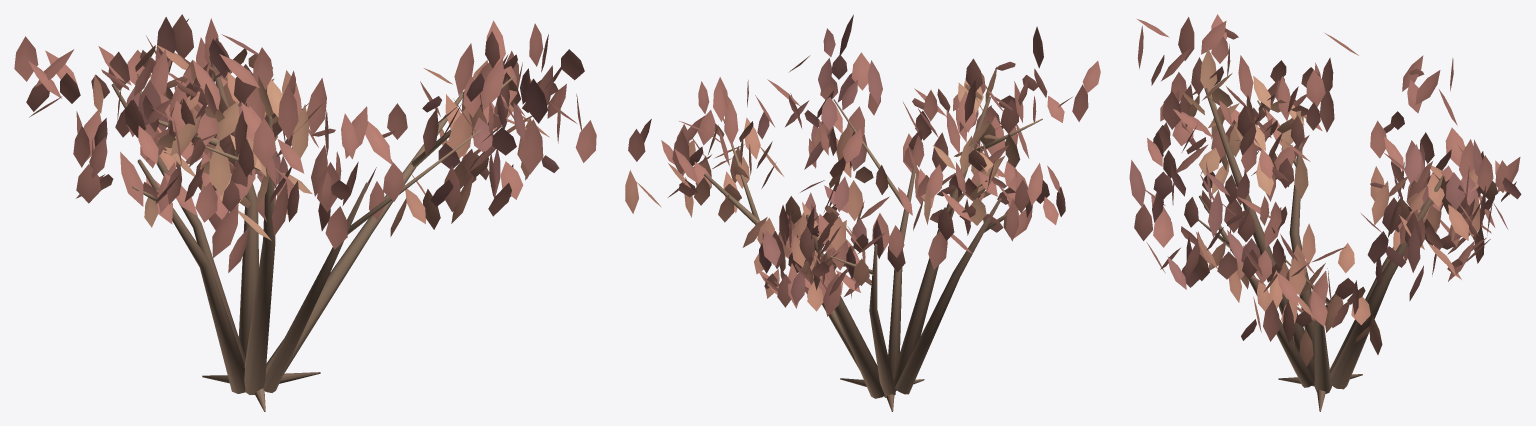
File: bush_3d_05_red.glb
The picture shows the model from 3 angles, left to right: view 1: azimuth 30°, elevation 25°; view 2: azimuth 150°, elevation 25°; view 3: azimuth 270°, elevation 25°; orthographic projection. The views are drawn at different scales.
Visible parts, largest first — view 1: bush_3d_05_red_foliage, bush_3d_05_red_wood; view 2: bush_3d_05_red_foliage, bush_3d_05_red_wood; view 3: bush_3d_05_red_foliage, bush_3d_05_red_wood.
Part boxes in pixels (box(x1,y1,x2,y2)): bush_3d_05_red_foliage: box(14, 14, 596, 272); bush_3d_05_red_wood: box(111, 56, 515, 411); bush_3d_05_red_foliage: box(625, 14, 1100, 316); bush_3d_05_red_wood: box(703, 96, 1042, 411); bush_3d_05_red_foliage: box(1129, 14, 1521, 366); bush_3d_05_red_wood: box(1198, 87, 1445, 411).
Size of the model in its own units: 2.54 by 1.85 by 1.98.
